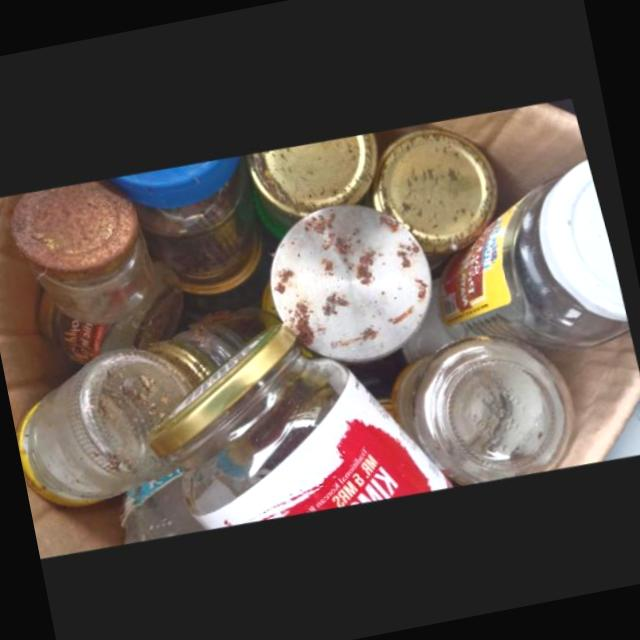chai_thuy_tinh: (151, 321, 452, 528), (445, 174, 634, 349), (19, 346, 194, 505), (395, 335, 578, 481), (16, 179, 163, 322), (114, 152, 264, 286), (44, 254, 188, 362), (150, 304, 285, 384)
nhom: (273, 202, 440, 362), (383, 128, 505, 246), (254, 130, 385, 216)
